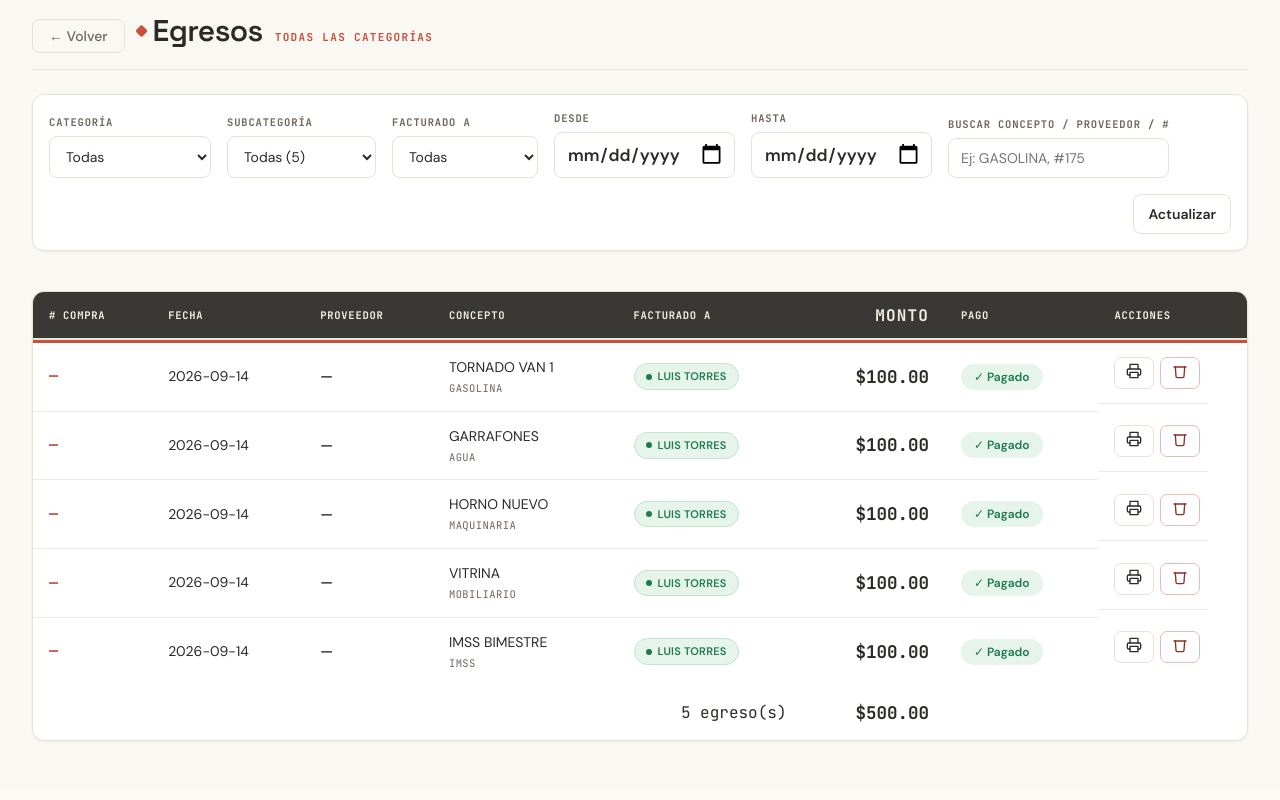
Scenario: Egresos en modo consulta › 🔴 cambiar de categoría pide esa categoría y las subcategorías salen de ella, desde «Todas»
expect the text "TORNADO VAN 1" is shown: met, box [449,358,554,376]
Select "Gastos" in the dropdown labelled "Categoría" at (130, 157), box [49,136,211,178]
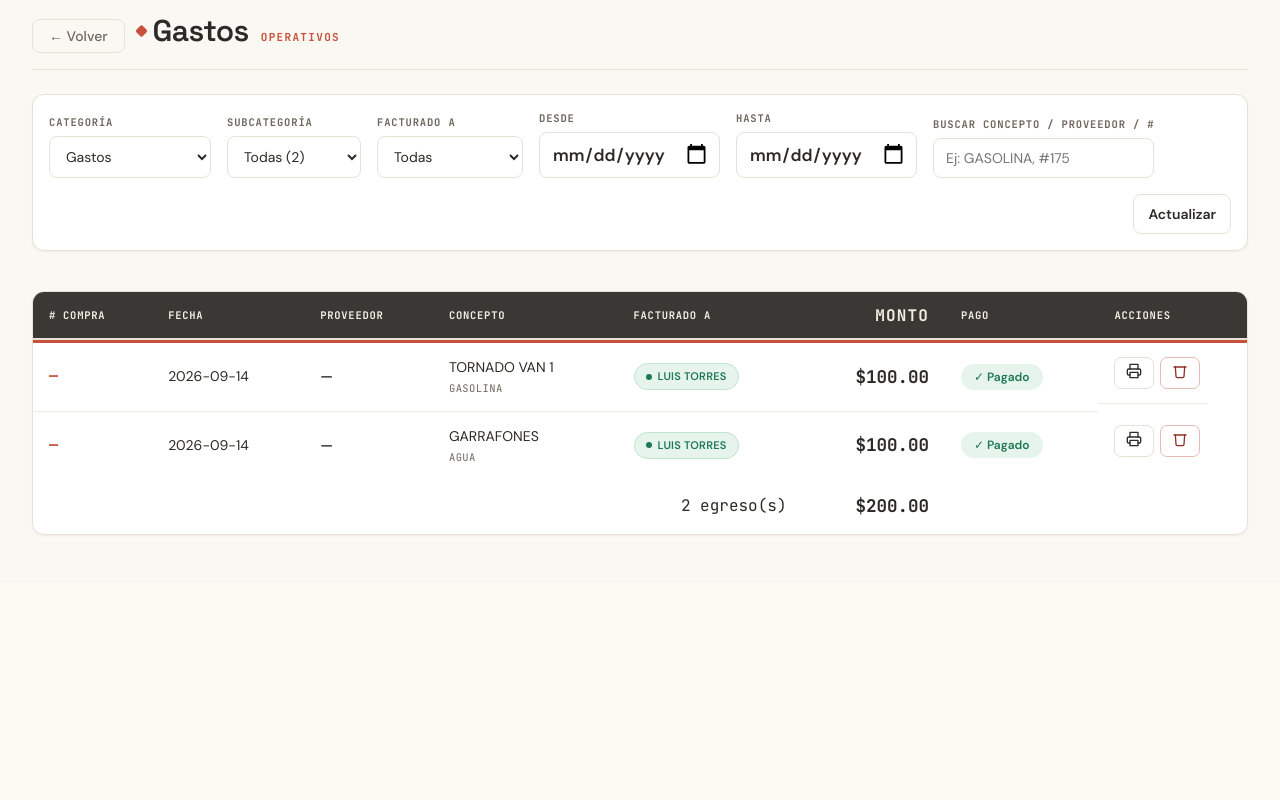
expect the text "GARRAFONES" is shown: met, box [449,426,539,444]
Select "AGUA (1)" in the dropdown labelled "Subcategoría" at (294, 157), box [227,136,361,178]
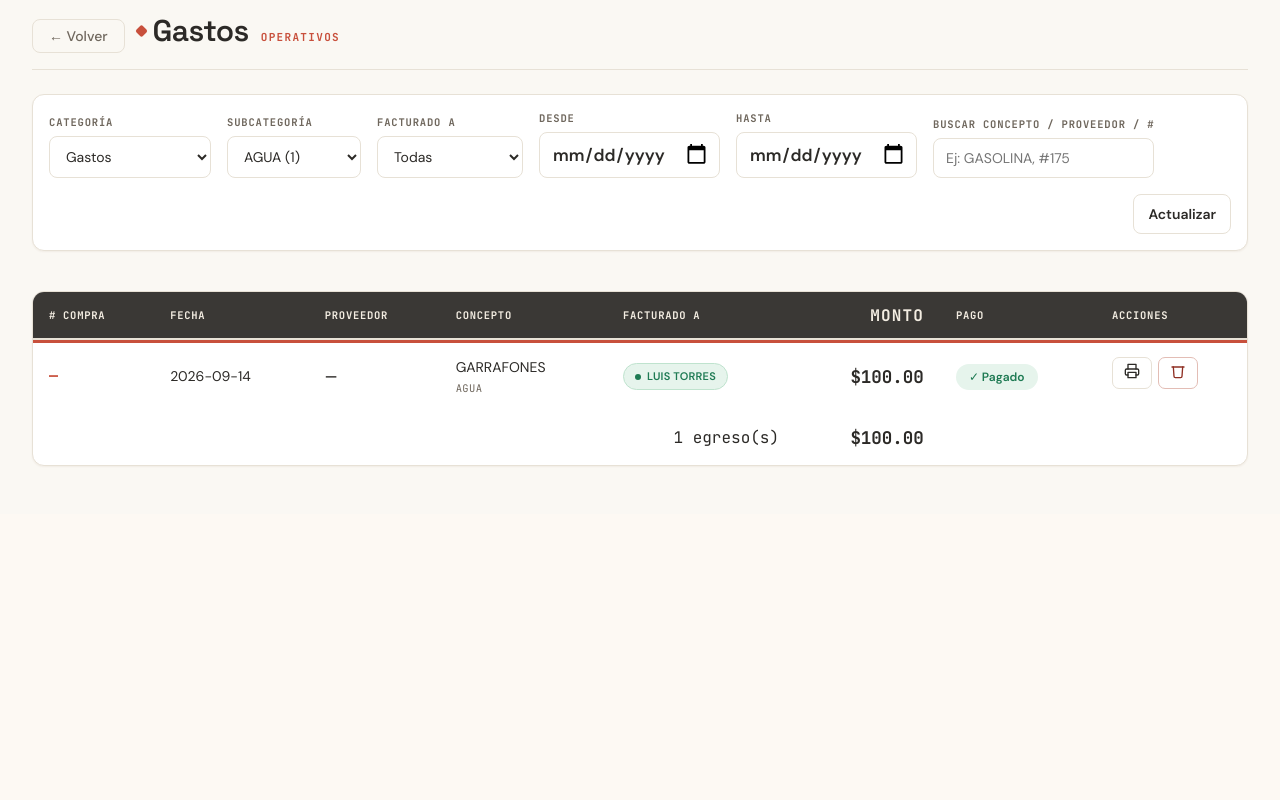
expect the text "TORNADO VAN 1" is gone: met
Select "Activo Fijo" in the dropdown labelled "Categoría" at (130, 157), box [49,136,211,178]
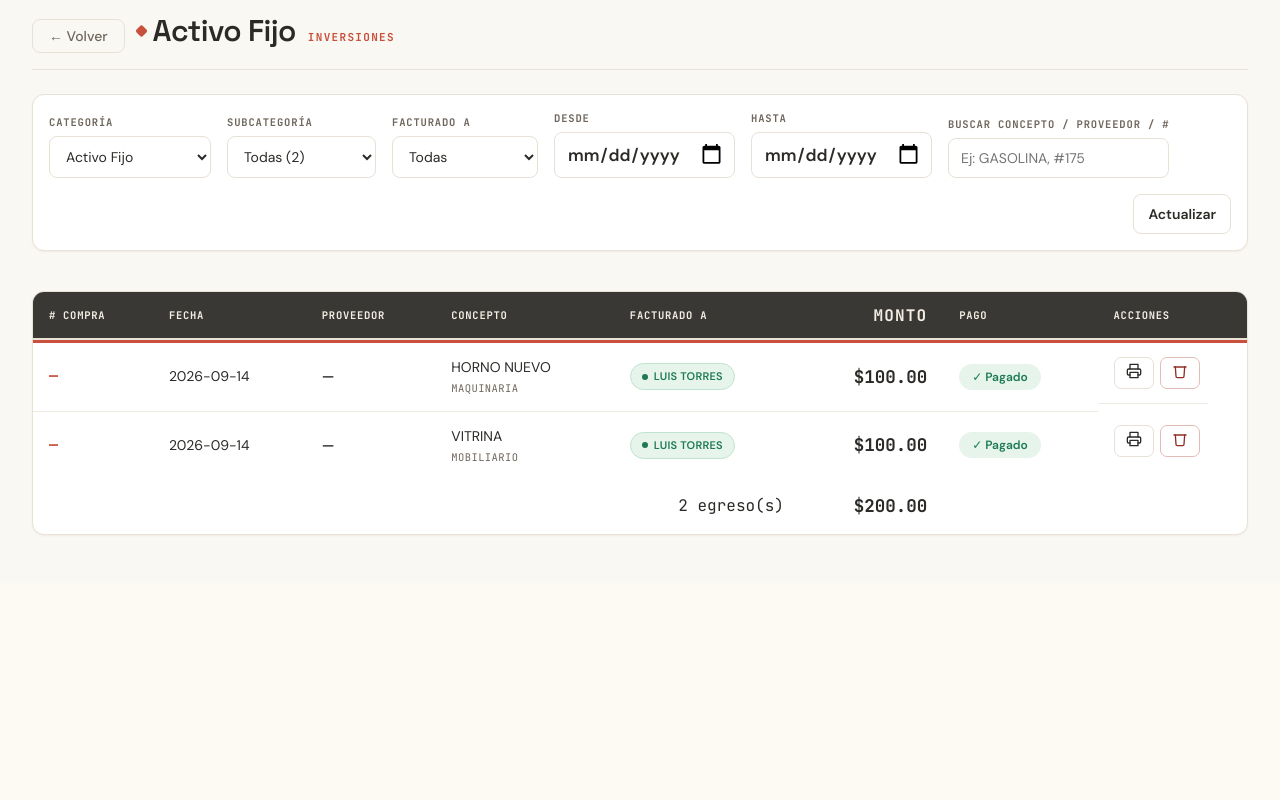
expect the text "HORNO NUEVO" is shown: met, box [451,358,551,376]
expect the text "VITRINA" is shown: met, box [451,426,502,444]
